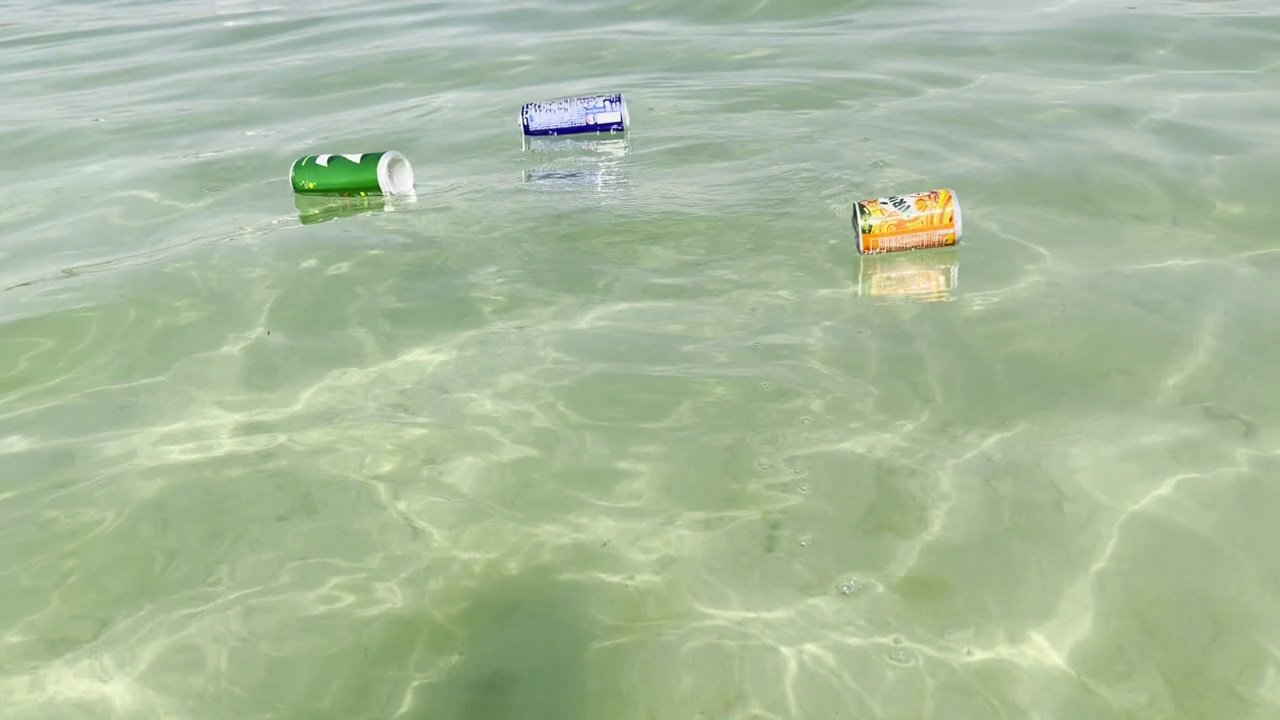debris: (840, 186, 973, 258), (284, 146, 423, 206), (508, 87, 633, 147)
